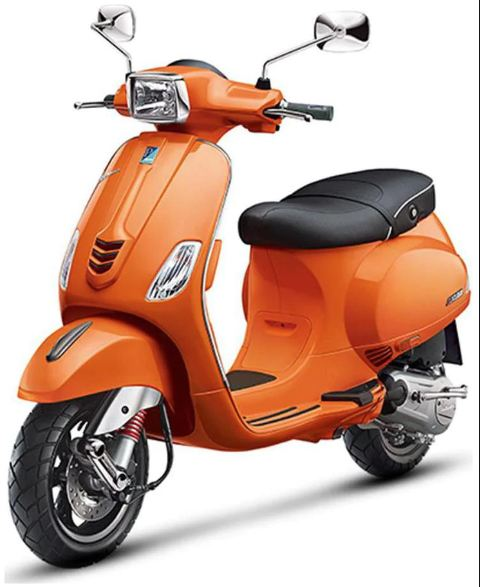bike: (9, 6, 472, 577)
